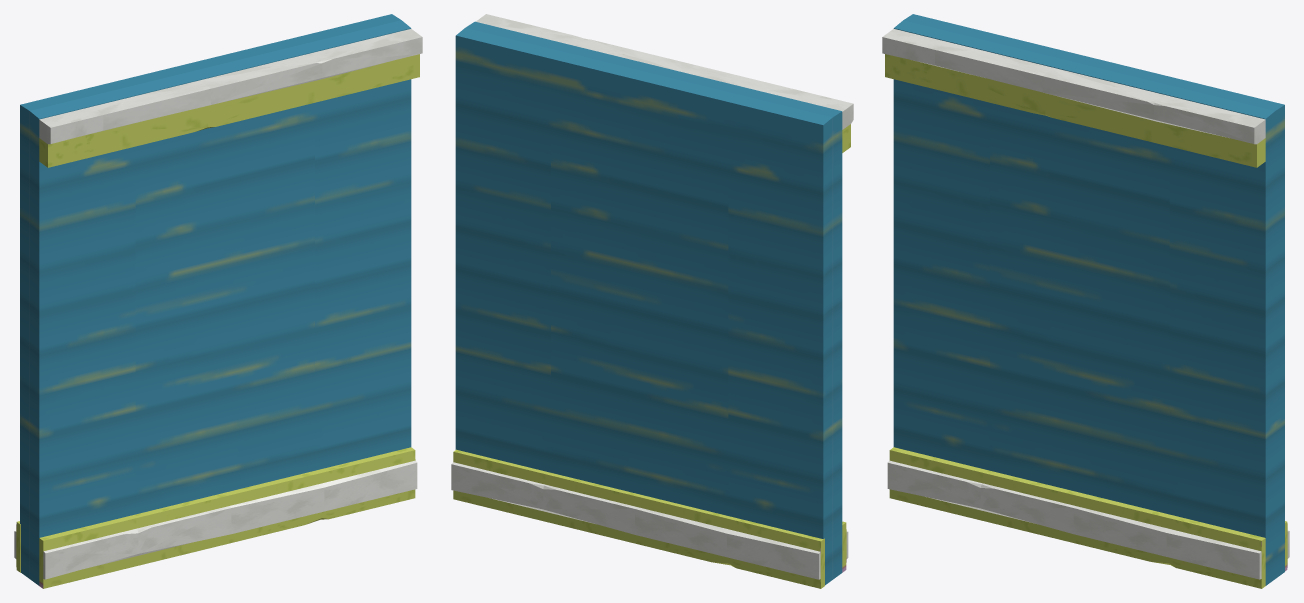
File: Wall_01.fbx
3 views of the same model, side by side, from view 1: azimuth 30°, elevation 25°; view 2: azimuth 150°, elevation 25°; view 3: azimuth 330°, elevation 25° (orthographic).
Parts seen in each view (by area): view 1: SM_Bld_Wall_Trim_09.001; view 2: SM_Bld_Wall_Trim_09.001; view 3: SM_Bld_Wall_Trim_09.001.
Boxes of the visible parts, bbox=[...] form: SM_Bld_Wall_Trim_09.001: bbox=[14, 14, 422, 588]; SM_Bld_Wall_Trim_09.001: bbox=[451, 14, 853, 588]; SM_Bld_Wall_Trim_09.001: bbox=[882, 14, 1289, 588].
Bounding box in the file's own units: 250 × 301 × 41.59.
